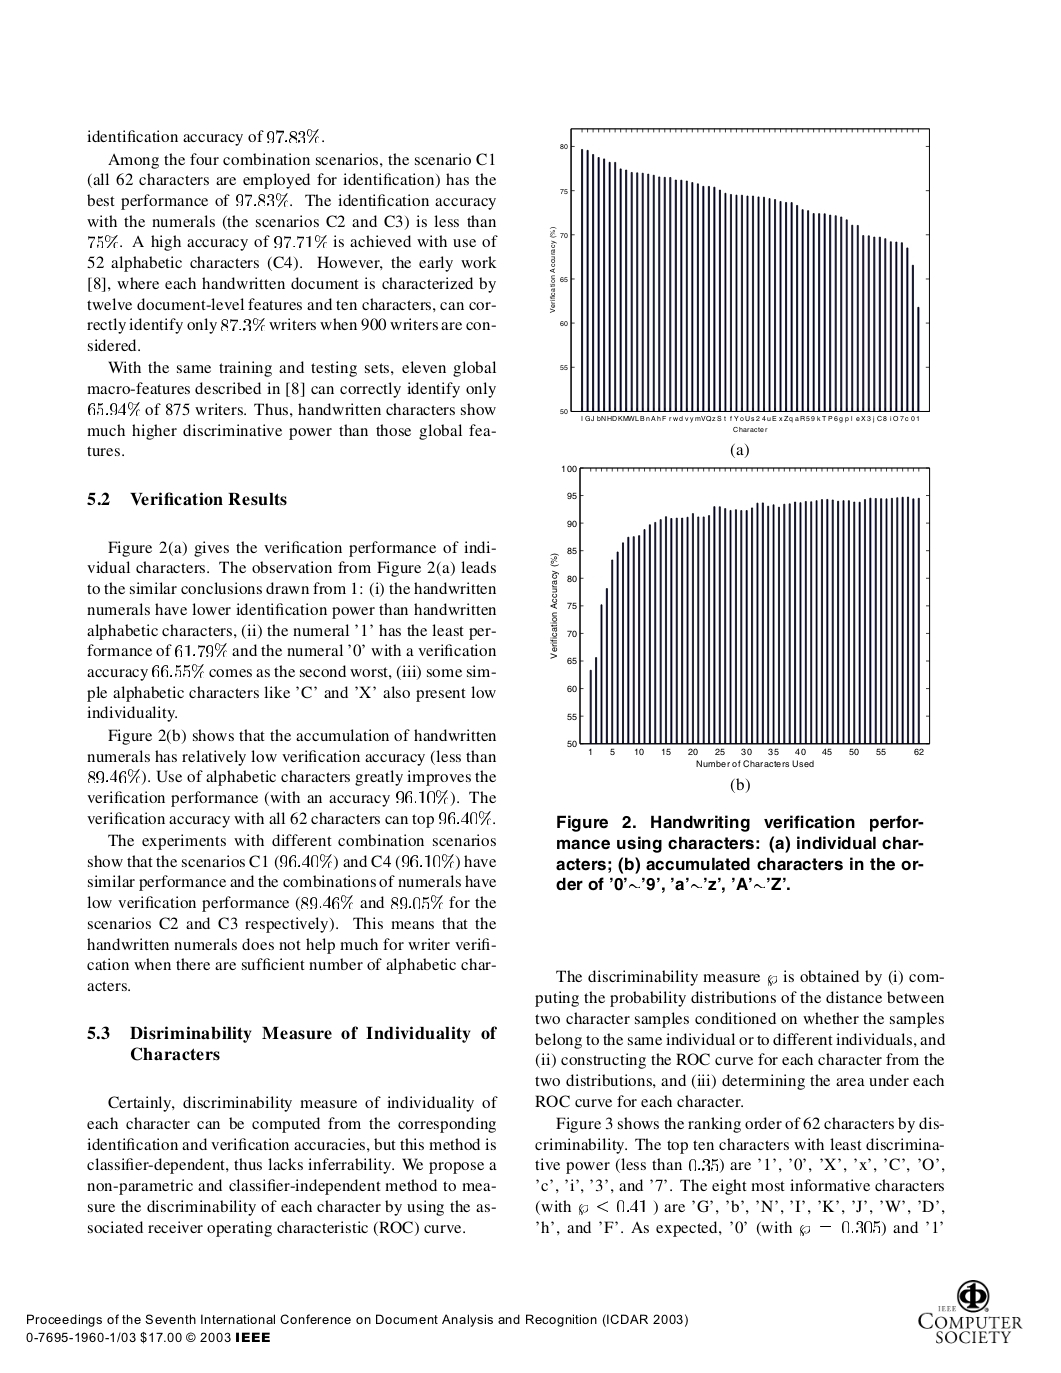figure: (549, 128, 929, 432), (549, 465, 929, 767), (918, 1281, 1022, 1343)
